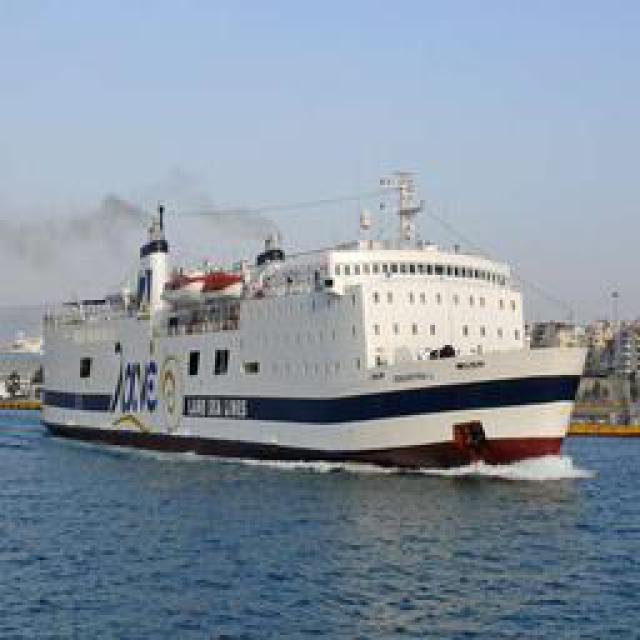Ship: (39, 201, 599, 469)
